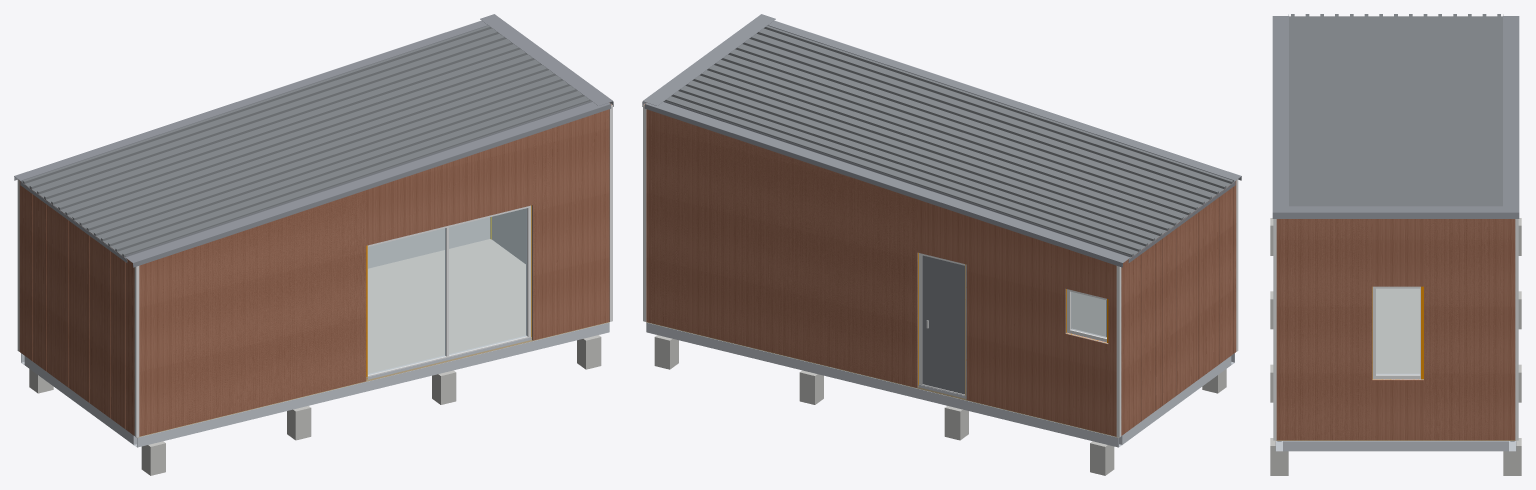
The model's file is Monoambiente25.glb.
3 views of the same model, side by side, from view 1: azimuth 30°, elevation 25°; view 2: azimuth 150°, elevation 25°; view 3: azimuth 270°, elevation 25° (orthographic). The views are drawn at different scales.
Parts seen in each view (by area): view 1: Siding Superboard Cedar 8 mm, Techo chapa prepintada, Aberturas (×2), Piso ceramico, Babetas y zingueria, Entrepiso vigas tubo, Placa de yeso, Pilares de hormigon, Esquineros, Entrepiso OSB 25 mm; view 2: Siding Superboard Cedar 8 mm, Techo chapa prepintada, Babetas y zingueria, Aberturas (×3), Entrepiso vigas tubo, Pilares de hormigon, Esquineros, Placa de yeso, Entrepiso OSB 25 mm; view 3: Siding Superboard Cedar 8 mm, Techo chapa prepintada, Babetas y zingueria, Aberturas (×2), Piso ceramico, Entrepiso vigas tubo, Pilares de hormigon, Esquineros, Refuerzos de vanos.
Boxes of the visible parts, x1=… form: Siding Superboard Cedar 8 mm: x1=19, y1=104, x2=611, y2=436; Techo chapa prepintada: x1=20, y1=25, x2=590, y2=258; Aberturas (×2): x1=367, y1=205, x2=531, y2=376; Piso ceramico: x1=368, y1=239, x2=525, y2=373; Babetas y zingueria: x1=14, y1=14, x2=613, y2=267; Entrepiso vigas tubo: x1=21, y1=322, x2=609, y2=447; Placa de yeso: x1=368, y1=208, x2=525, y2=268; Pilares de hormigon: x1=29, y1=335, x2=601, y2=475; Esquineros: x1=17, y1=105, x2=612, y2=437; Entrepiso OSB 25 mm: x1=137, y1=322, x2=609, y2=437; Siding Superboard Cedar 8 mm: x1=644, y1=104, x2=1236, y2=436; Techo chapa prepintada: x1=665, y1=25, x2=1235, y2=258; Babetas y zingueria: x1=642, y1=14, x2=1241, y2=267; Aberturas (×3): x1=919, y1=253, x2=1106, y2=395; Entrepiso vigas tubo: x1=646, y1=322, x2=1234, y2=447; Pilares de hormigon: x1=654, y1=335, x2=1226, y2=475; Esquineros: x1=643, y1=105, x2=1238, y2=437; Placa de yeso: x1=1072, y1=292, x2=1104, y2=336; Entrepiso OSB 25 mm: x1=646, y1=322, x2=1118, y2=437; Siding Superboard Cedar 8 mm: x1=1276, y1=219, x2=1515, y2=440; Techo chapa prepintada: x1=1289, y1=14, x2=1502, y2=206; Babetas y zingueria: x1=1272, y1=14, x2=1519, y2=218; Aberturas (×2): x1=1372, y1=286, x2=1420, y2=378; Piso ceramico: x1=1376, y1=288, x2=1420, y2=373; Entrepiso vigas tubo: x1=1275, y1=441, x2=1516, y2=451; Pilares de hormigon: x1=1270, y1=218, x2=1521, y2=475; Esquineros: x1=1273, y1=219, x2=1518, y2=440; Refuerzos de vanos: x1=1372, y1=286, x2=1423, y2=379.
Bounding box in the file's own units: 7.8 × 4.04 × 3.41.
22 materials, 2 textured.
